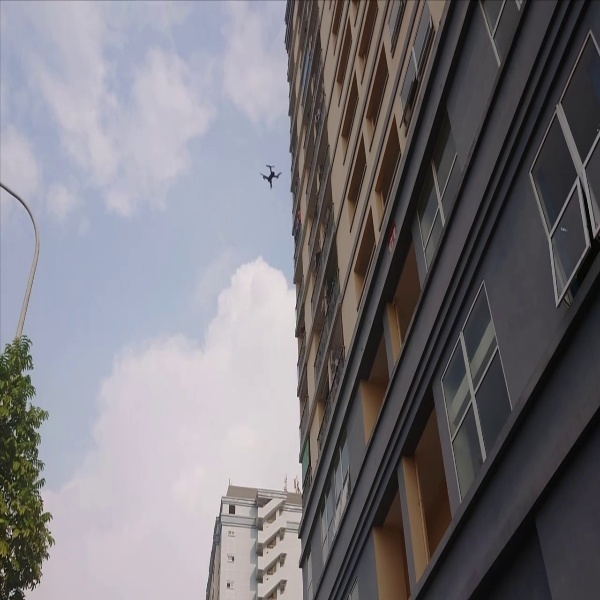drone: (256, 159, 288, 195)
